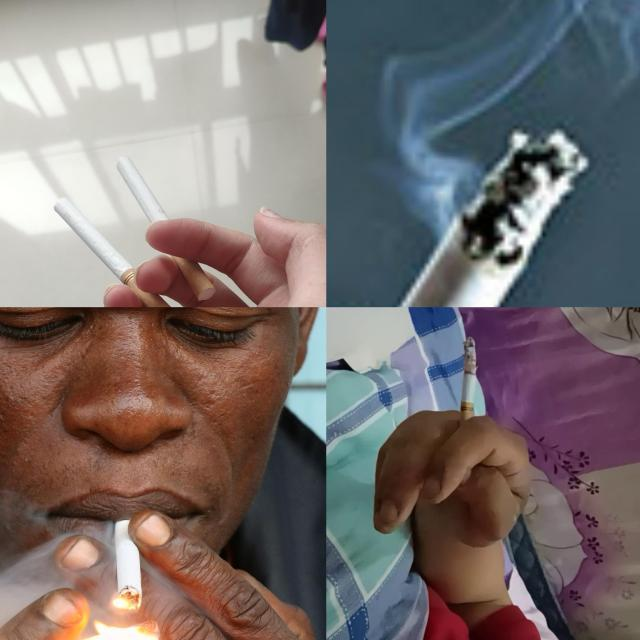smoking: (326, 124, 588, 307), (116, 156, 217, 301), (52, 196, 180, 307), (114, 508, 144, 609), (458, 337, 477, 441)
